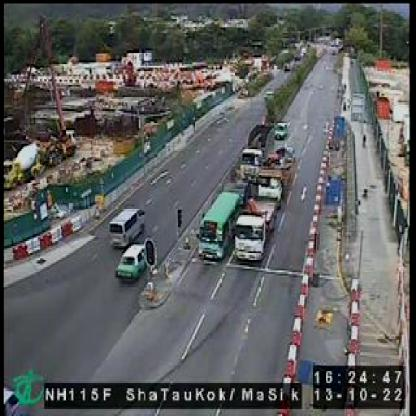Car: (108, 203, 148, 250), (117, 242, 150, 280), (274, 120, 290, 140)
Minibus: (197, 188, 240, 262)
Truck: (235, 196, 280, 263), (258, 149, 298, 204)
